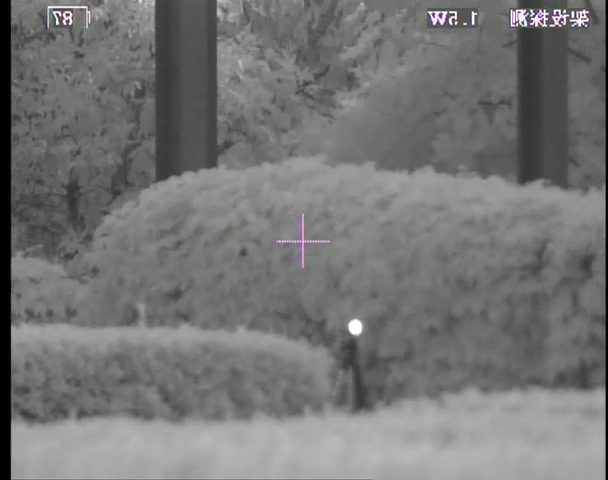my: (346, 317, 363, 336)
